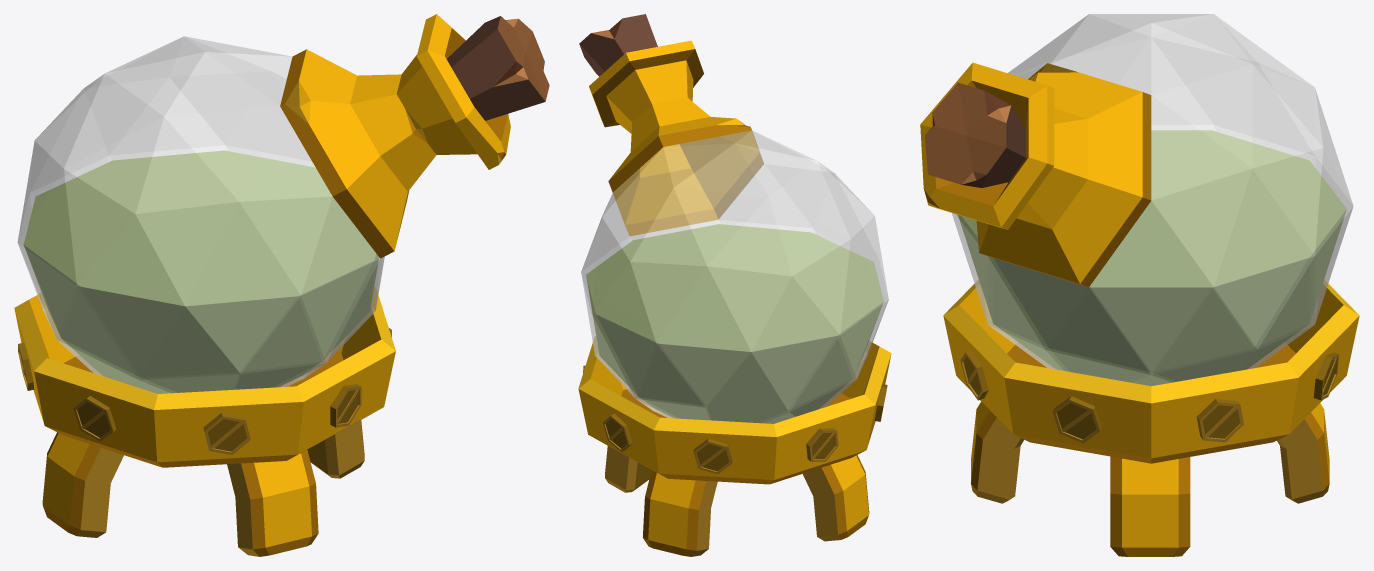
File: Lab_Sphere_01.glb
The picture shows the model from 3 angles, left to right: view 1: azimuth 30°, elevation 25°; view 2: azimuth 150°, elevation 25°; view 3: azimuth 270°, elevation 25°; orthographic projection. The views are drawn at different scales.
Parts seen in each view (by area): view 1: Lab_Sphere_01; view 2: Lab_Sphere_01; view 3: Lab_Sphere_01.
Boxes of the visible parts, bbox=[...] form: Lab_Sphere_01: bbox=[14, 14, 549, 556]; Lab_Sphere_01: bbox=[578, 14, 891, 556]; Lab_Sphere_01: bbox=[920, 14, 1359, 556].
Size of what is drawn, in the model's own units: 0.8915 by 0.9593 by 0.7438.
2 materials, 2 textured.
